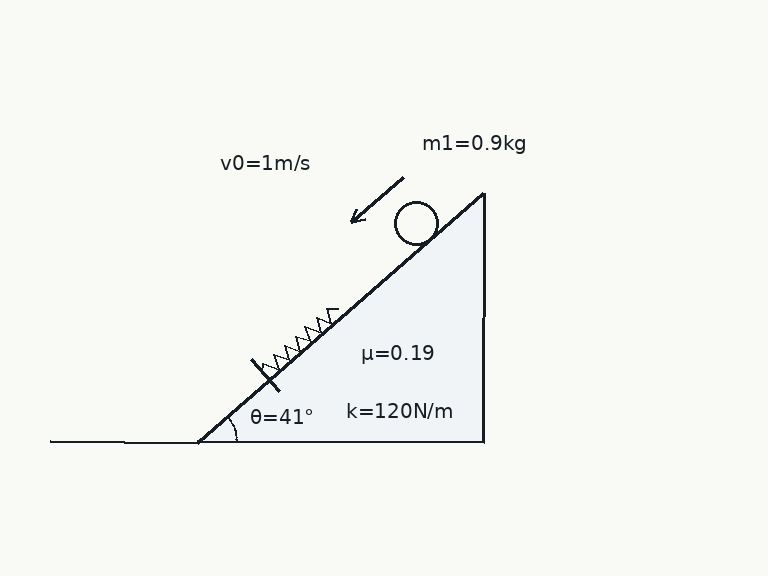ball: (392, 199, 440, 247)
ramp: (195, 191, 486, 444)
spring: (261, 305, 339, 375)
